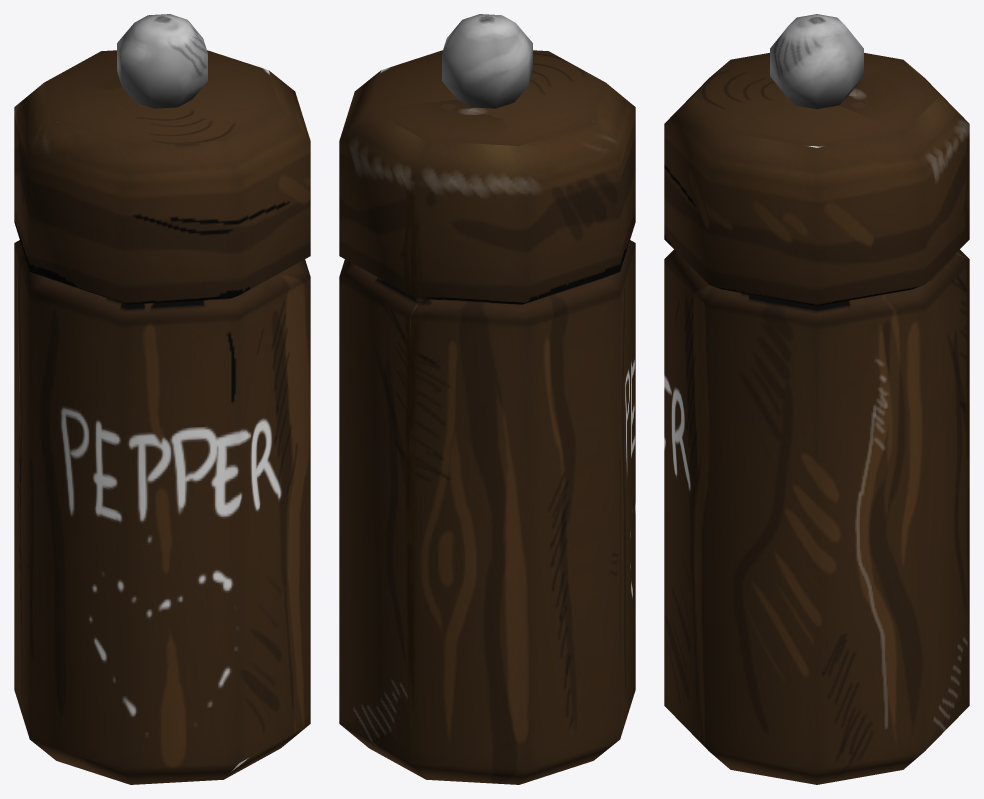
File: pepper.fbx
3 views of the same model, side by side, from view 1: azimuth 30°, elevation 25°; view 2: azimuth 150°, elevation 25°; view 3: azimuth 270°, elevation 25° (orthographic).
Parts seen in each view (by area): view 1: polySurface1923; view 2: polySurface1923; view 3: polySurface1923.
Part boxes in pixels (x1,y1,x2,y2): polySurface1923: (14, 14, 310, 784); polySurface1923: (339, 14, 635, 784); polySurface1923: (664, 14, 969, 784).
Bounding box in the file's own units: 9.14 × 23.62 × 9.14.
